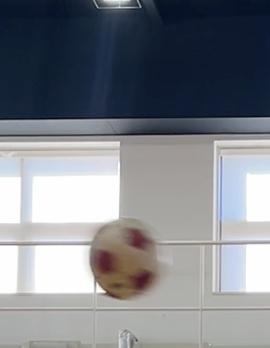Sports-Ball: (91, 216, 167, 300)
